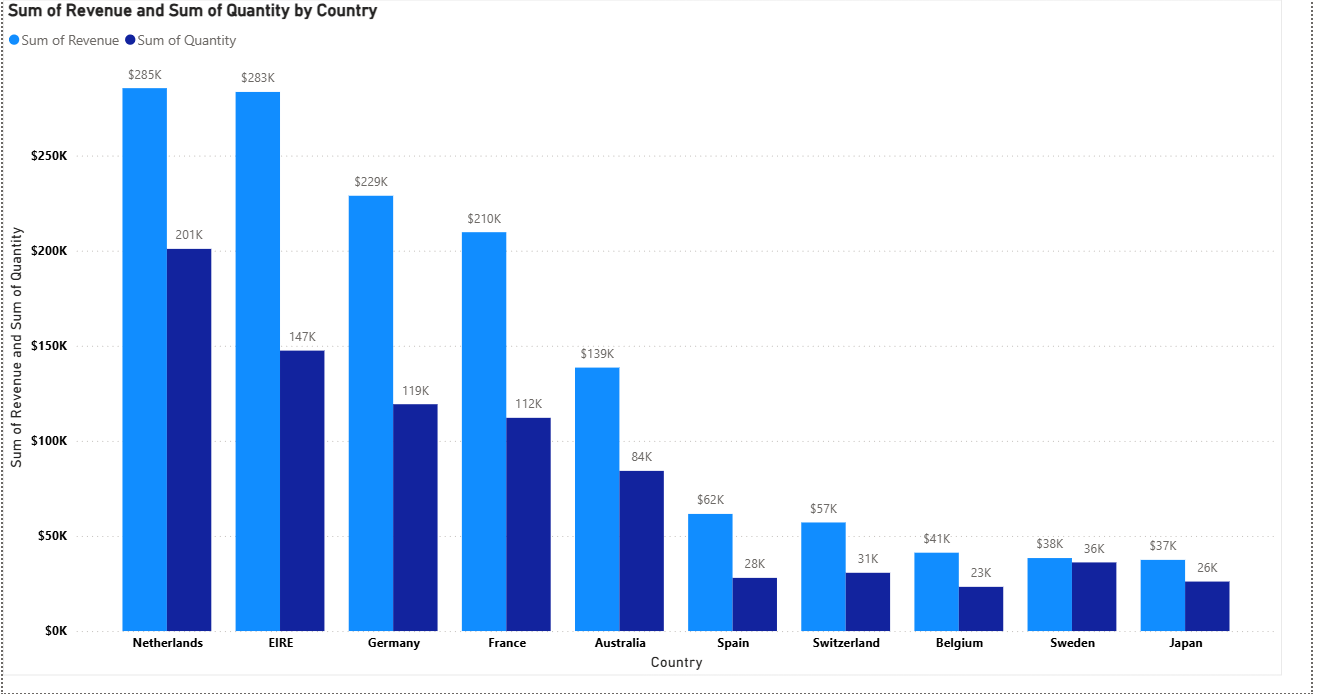

Layout of this report page (visuals, bound fields, positions):
{"tool":"powerbi","page":{"name":"Ans 2","canvas":[1280,720],"ordinal":1},"visuals":[{"type":"clusteredColumnChart","fields":{"Category":["Online Retail.Country"],"Y":["Sum(Online Retail.Revenue)","Sum(Online Retail.Quantity)","select"]},"box":[0,41.6,1251,661.6],"z":0}]}

Visuals, with their boxes on the page's 1280x720 design canvas (x1, y1, x2, y2). These are canvas units, not pixel positions in the 1317x694 screenshot, which may show the page scaled, cropped or inside an application window:
clusteredColumnChart - Online Retail.Country x Sum(Online Retail.Revenue): (x1=0, y1=42, x2=1251, y2=703)
